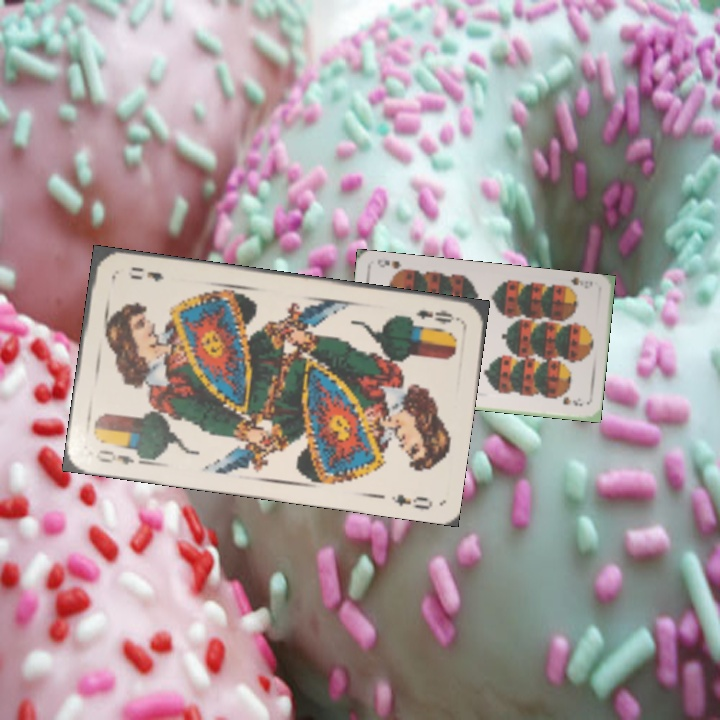EO: (91, 442, 148, 467), (413, 305, 461, 328)
S9: (558, 274, 586, 294)
